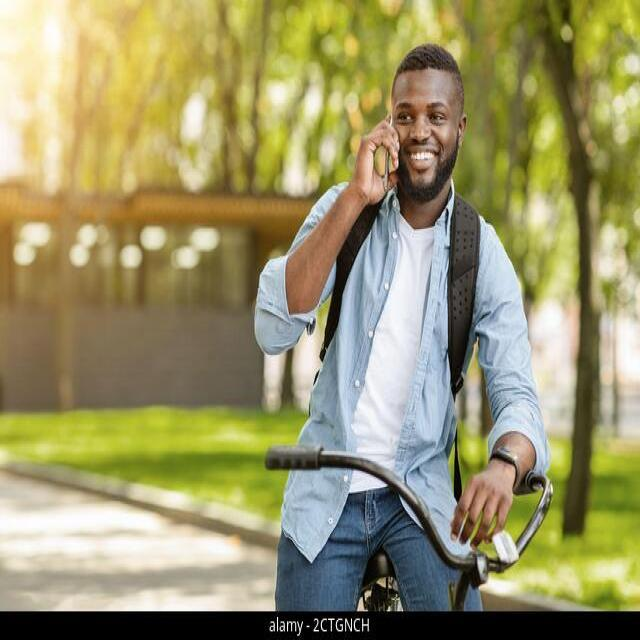Using mobile: (330, 42, 515, 225)
